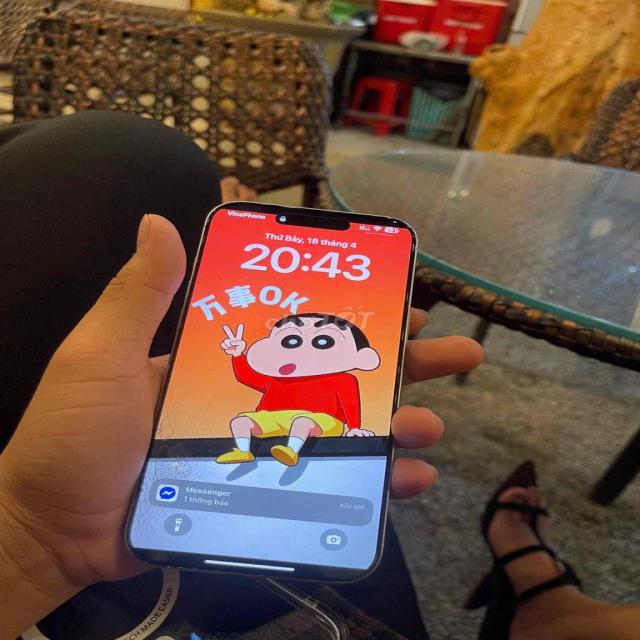gen_15: (99, 178, 422, 605)
